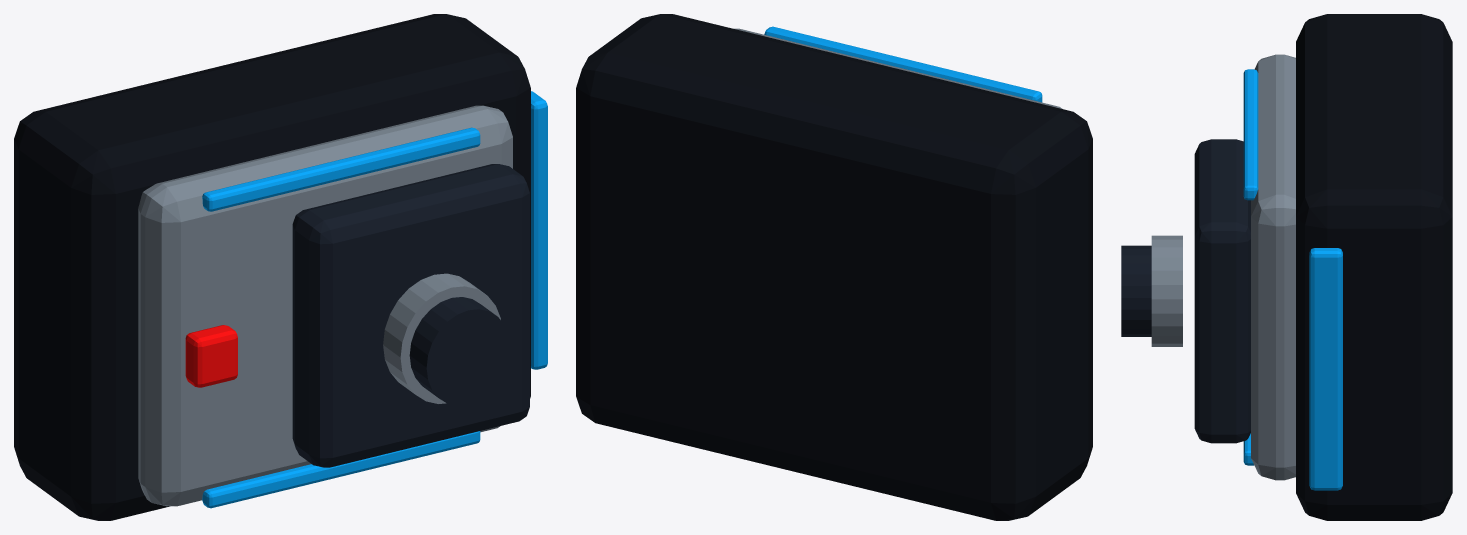
Rendered from robo_amr.obj.
3 views of the same model, side by side, from view 1: azimuth 30°, elevation 25°; view 2: azimuth 150°, elevation 25°; view 3: azimuth 270°, elevation 25° (orthographic). The views are drawn at different scales.
Visible parts, largest first — view 1: robo_amr; view 2: robo_amr; view 3: robo_amr.
Boxes of the visible parts, <box> form: robo_amr: <box>14,14,547,520</box>; robo_amr: <box>576,14,1092,520</box>; robo_amr: <box>1121,14,1452,520</box>.
Size of the model in its own units: 0.4635 by 0.35 by 0.317.
